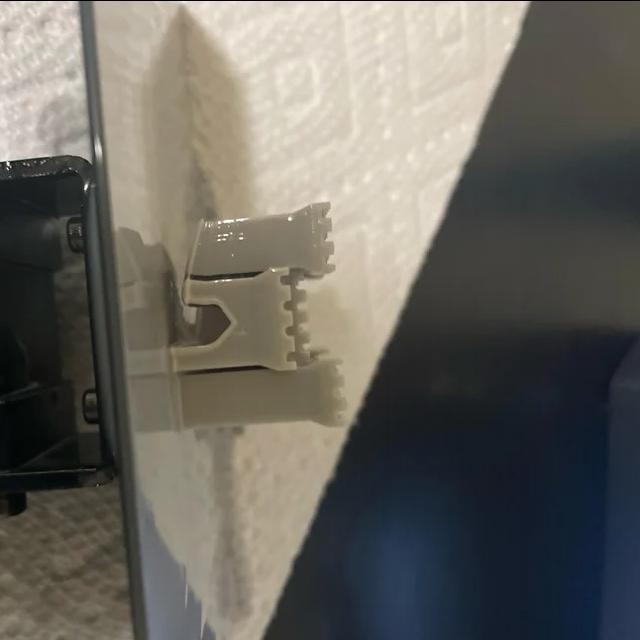Warping: (174, 219, 210, 303)
